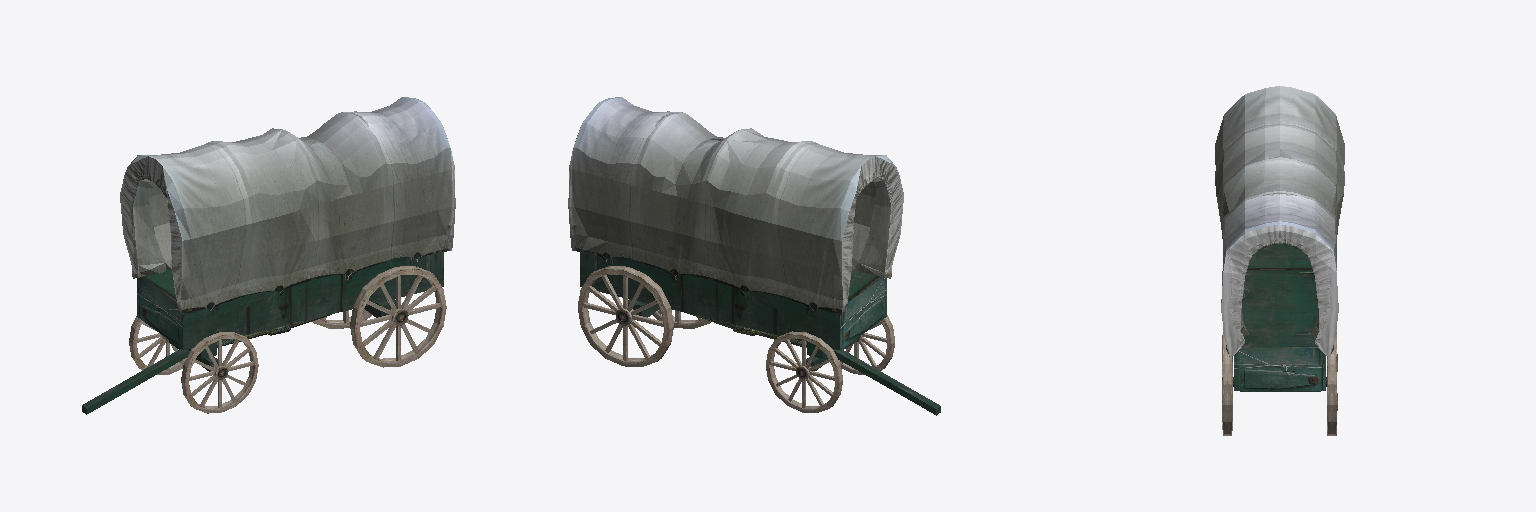
The picture shows the model from 3 angles: view 1: azimuth 30°, elevation 25°; view 2: azimuth 150°, elevation 25°; view 3: azimuth 270°, elevation 25°; orthographic projection.
Visible parts, largest first — view 1: wagon1; view 2: wagon1; view 3: wagon1.
Part boxes in pixels (bbox=[...]): wagon1: bbox=[82, 97, 455, 414]; wagon1: bbox=[568, 97, 940, 415]; wagon1: bbox=[1215, 86, 1344, 435].
Bounding box in the file's own units: 10.02 × 6.78 × 3.31.
Materials: 1 (1 with a texture image).